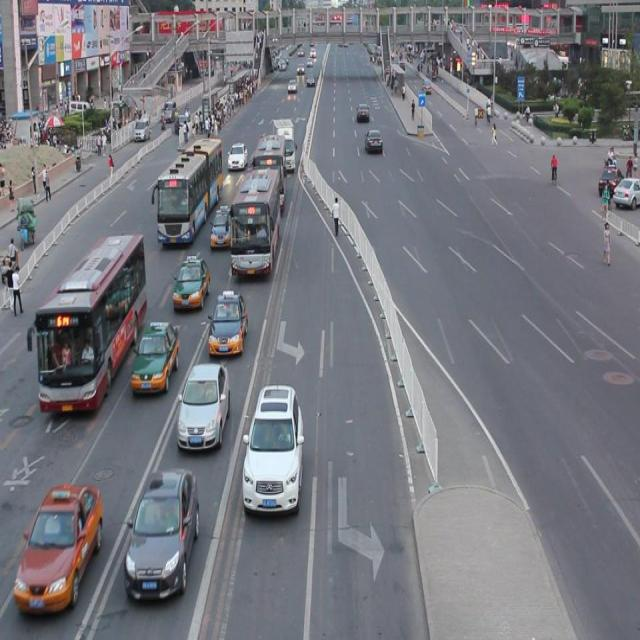bus: (272, 119, 296, 174)
car: (14, 482, 103, 612), (122, 469, 199, 599), (242, 384, 304, 512), (177, 365, 229, 447), (130, 318, 179, 394), (208, 289, 247, 352), (173, 256, 210, 308), (210, 207, 233, 249), (226, 142, 248, 170), (364, 128, 382, 151), (281, 127, 296, 150)
van: (27, 232, 148, 409), (153, 138, 222, 244), (230, 170, 280, 278), (251, 134, 286, 206)
